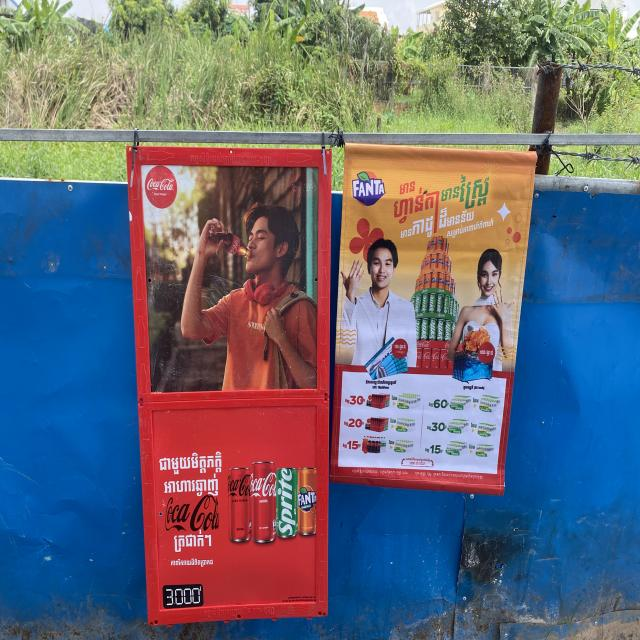1: (391, 168, 501, 229), (185, 148, 277, 167), (202, 606, 277, 620)
2: (398, 187, 505, 258)
Yolov11kh: (157, 447, 229, 479), (159, 473, 224, 499), (168, 528, 214, 557), (168, 555, 215, 568)
